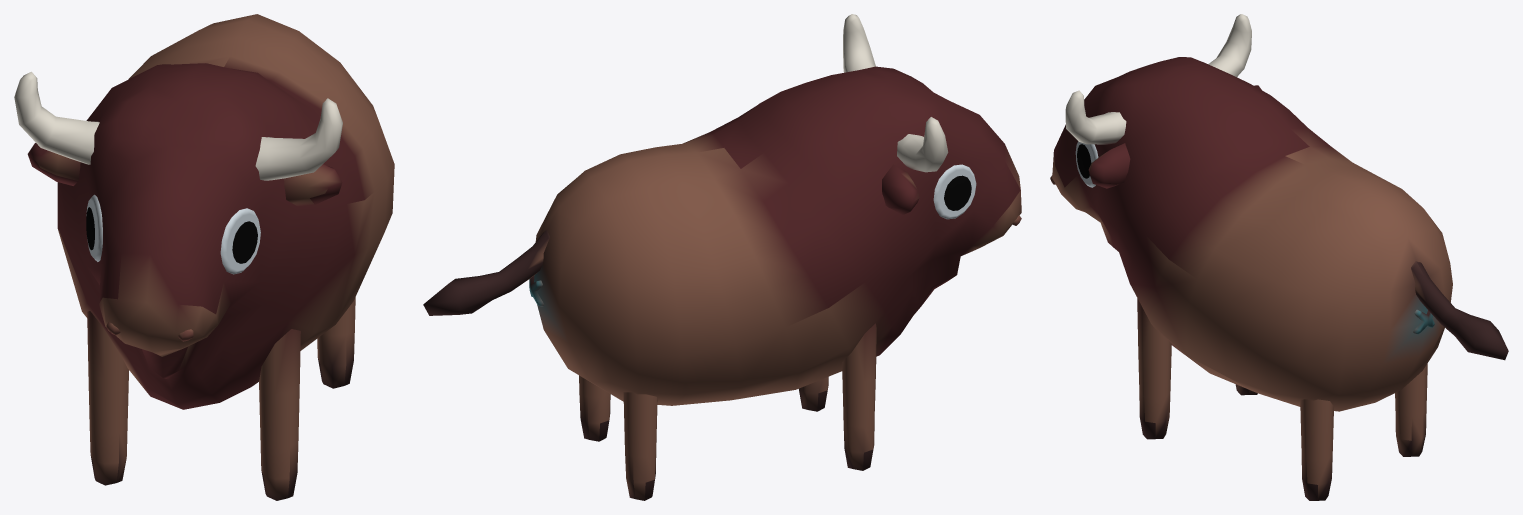
Rendered from Bison.glb.
3 renders of one model, left to right at view 1: azimuth 30°, elevation 25°; view 2: azimuth 150°, elevation 25°; view 3: azimuth 270°, elevation 25°, orthographic. The views are drawn at different scales.
Parts seen in each view (by area): view 1: 15; view 2: 15; view 3: 15.
Boxes of the visible parts, x1,y1,x2,y2 form: 15: (14,14,394,500); 15: (423,14,1021,500); 15: (1050,14,1508,500).
Size of the model in its own units: 1.05 by 0.9614 by 1.15.
